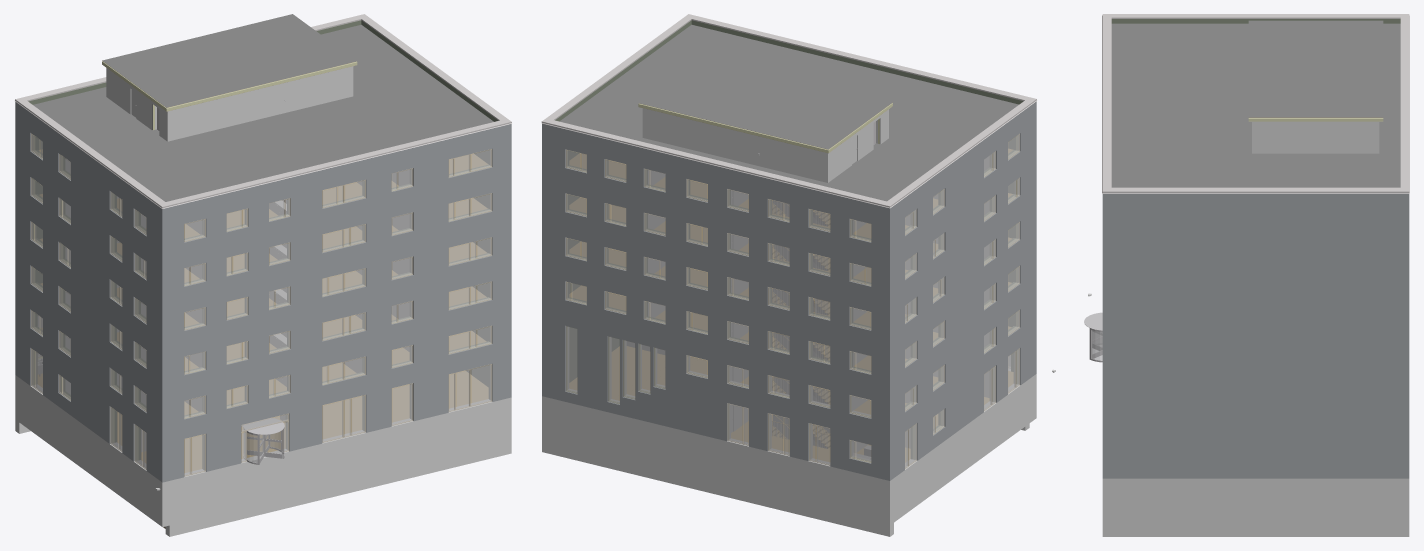
3 renders of one model, left to right at view 1: azimuth 30°, elevation 25°; view 2: azimuth 150°, elevation 25°; view 3: azimuth 270°, elevation 25°, orthographic. The views are drawn at different scales.
Parts seen in each view (by area): view 1: 32ybGKDuykUGUD4jYsk8Ie, 2cIgW2OJTDieQWoBsIsovZ, 3rMbhJVGF8OwG8cQZ1S72R, 31GoFlPlayZwrpzicZFjHM, 3Z2dx3yp2p0h1zd8qBrLsu, 2OZlAoNjc2kJuti7JBU1Dz, 3dMtr6ofFP_r4lxxKhDjtx, 1GUGhvBakY7jOi2BGD5Qmv, 3ctpXZK9k9n_dEy9Asp1f7, 0VBdryB4DCBwzuYCpj07xh, 1eou6h2MPUQ_8mModuxOLE, 3NDIvj5pHM7Rsyj6ihpQu6 (+29 smaller); view 2: 32ybGKDuykUGUD4jYsk8Ie, 2krgaB0GP7DAfHc_3z76Gw, 3QipThjn2CLI6iTaD_53At, 1NGtvcfxq37$wkFrdBOsEg, 0Nla6I89LXyQnRX9MUdA5X, 13GXFeUOgKNsPM6USzE6uv, 1GUGhvBakY7jOi2BGD5Qmv, 1p$U1Hbv9vPYxtgE8hYq50, 0$N1zEdv8l58ubpGRcOAve, 0VBdryB4DCBwzuYCpj07xh, 1eou6h2MPUQ_8mModuxOLE, 0UYzApClyi16g1Kg4G_CkU (+26 smaller); view 3: 32ybGKDuykUGUD4jYsk8Ie, 2oxTdAOFu6tU1Ww$gO3M5H, 0lF1JNXCZRzvAhRKaOzneb, 03r_vdbtH25RjXPqeHKkek, 3pV62$rsXEB4maDIG5626S, 0_KsYzeGoQsH5hvVwI3pxF, 3aJPXfznSpSllxBuKdSQgc, 3KGWTAaBtbLUrXw8Kggjup, 1GUGhvBakY7jOi2BGD5Qmv, 28kvLrR_NQM_ChD9afdeln, 3f0w33gJnFHhDK3I7rSS04, 275fEQu912kfGLbBVw3O70 (+6 smaller).
Boxes of the visible parts, bbox=[...] form: 32ybGKDuykUGUD4jYsk8Ie: bbox=[33, 24, 493, 201]; 2cIgW2OJTDieQWoBsIsovZ: bbox=[169, 399, 504, 525]; 3rMbhJVGF8OwG8cQZ1S72R: bbox=[161, 124, 511, 259]; 31GoFlPlayZwrpzicZFjHM: bbox=[161, 308, 511, 437]; 3Z2dx3yp2p0h1zd8qBrLsu: bbox=[161, 174, 511, 303]; 2OZlAoNjc2kJuti7JBU1Dz: bbox=[161, 263, 511, 393]; 3dMtr6ofFP_r4lxxKhDjtx: bbox=[161, 219, 511, 348]; 1GUGhvBakY7jOi2BGD5Qmv: bbox=[102, 14, 356, 107]; 3ctpXZK9k9n_dEy9Asp1f7: bbox=[161, 353, 511, 482]; 0VBdryB4DCBwzuYCpj07xh: bbox=[15, 375, 169, 527]; 1eou6h2MPUQ_8mModuxOLE: bbox=[16, 102, 161, 258]; 3NDIvj5pHM7Rsyj6ihpQu6: bbox=[16, 197, 161, 347]; 32ybGKDuykUGUD4jYsk8Ie: bbox=[559, 24, 1018, 201]; 2krgaB0GP7DAfHc_3z76Gw: bbox=[549, 398, 882, 523]; 3QipThjn2CLI6iTaD_53At: bbox=[542, 123, 890, 258]; 1NGtvcfxq37$wkFrdBOsEg: bbox=[543, 263, 890, 391]; 0Nla6I89LXyQnRX9MUdA5X: bbox=[543, 218, 890, 347]; 13GXFeUOgKNsPM6USzE6uv: bbox=[543, 174, 890, 302]; 1GUGhvBakY7jOi2BGD5Qmv: bbox=[639, 56, 892, 149]; 1p$U1Hbv9vPYxtgE8hYq50: bbox=[543, 307, 890, 436]; 0$N1zEdv8l58ubpGRcOAve: bbox=[543, 352, 890, 480]; 0VBdryB4DCBwzuYCpj07xh: bbox=[883, 374, 1036, 525]; 1eou6h2MPUQ_8mModuxOLE: bbox=[890, 102, 1035, 257]; 0UYzApClyi16g1Kg4G_CkU: bbox=[890, 285, 1035, 435]; 32ybGKDuykUGUD4jYsk8Ie: bbox=[1111, 23, 1400, 187]; 2oxTdAOFu6tU1Ww$gO3M5H: bbox=[1104, 193, 1407, 246]; 0lF1JNXCZRzvAhRKaOzneb: bbox=[1104, 292, 1409, 339]; 03r_vdbtH25RjXPqeHKkek: bbox=[1102, 478, 1409, 524]; 3pV62$rsXEB4maDIG5626S: bbox=[1104, 432, 1409, 478]; 0_KsYzeGoQsH5hvVwI3pxF: bbox=[1104, 339, 1409, 385]; 3aJPXfznSpSllxBuKdSQgc: bbox=[1104, 246, 1409, 292]; 3KGWTAaBtbLUrXw8Kggjup: bbox=[1104, 385, 1409, 431]; 1GUGhvBakY7jOi2BGD5Qmv: bbox=[1248, 20, 1383, 117]; 28kvLrR_NQM_ChD9afdeln: bbox=[1252, 122, 1379, 153]; 3f0w33gJnFHhDK3I7rSS04: bbox=[1102, 525, 1409, 536]; 275fEQu912kfGLbBVw3O70: bbox=[1102, 187, 1409, 193].
Size of the model in its own units: 29.71 by 28.36 by 22.25.
